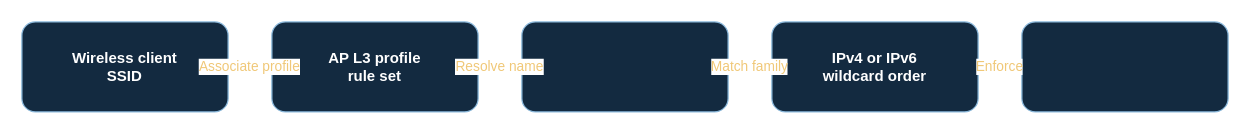
Some shapes in this 1250 by 134 pixel diagram are drawn without their labels. Here are the shapes that lost their labels. From the top down, the centre of each, then its label:
At [624,66]: "FQDN matcher source / dest".
At [1124,66]: "AP decision allow / deny".
